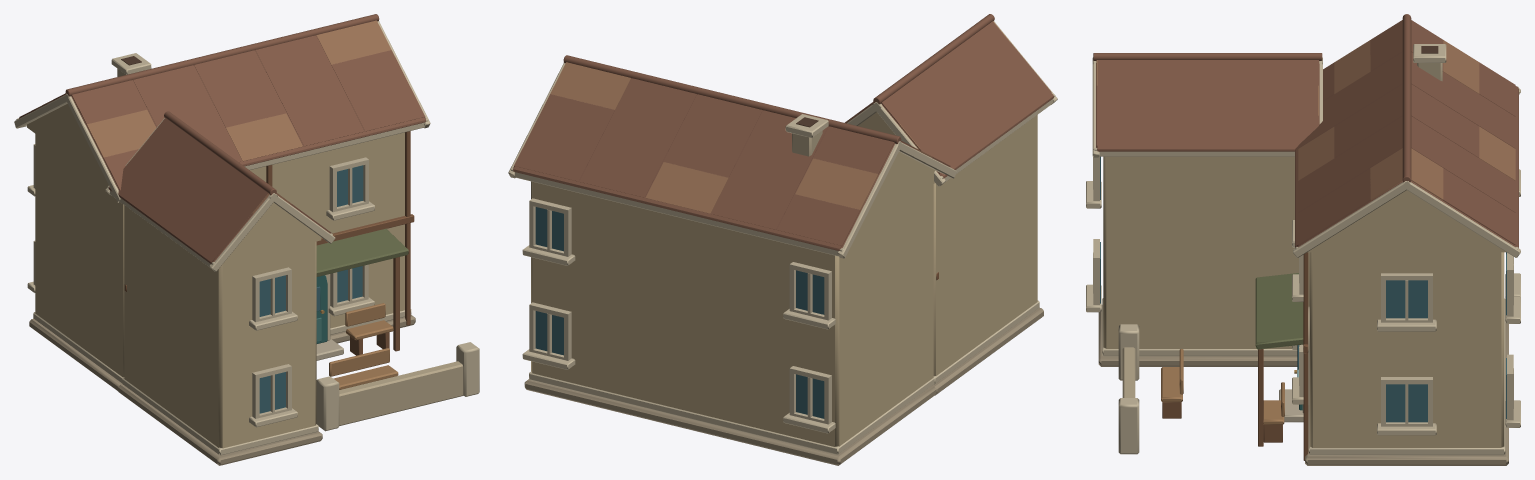
The model's file is inn_level_3.glb.
3 renders of one model, left to right at view 1: azimuth 30°, elevation 25°; view 2: azimuth 150°, elevation 25°; view 3: azimuth 270°, elevation 25°, orthographic. The views are drawn at different scales.
Parts seen in each view (by area): view 1: inn_level_3_runtime; view 2: inn_level_3_runtime; view 3: inn_level_3_runtime.
Part boxes in pixels (x1,y1,x2,y2): inn_level_3_runtime: [14, 14, 479, 465]; inn_level_3_runtime: [508, 14, 1057, 465]; inn_level_3_runtime: [1086, 14, 1520, 465].
Bounding box in the file's own units: 6.78 × 5.75 × 7.59.
